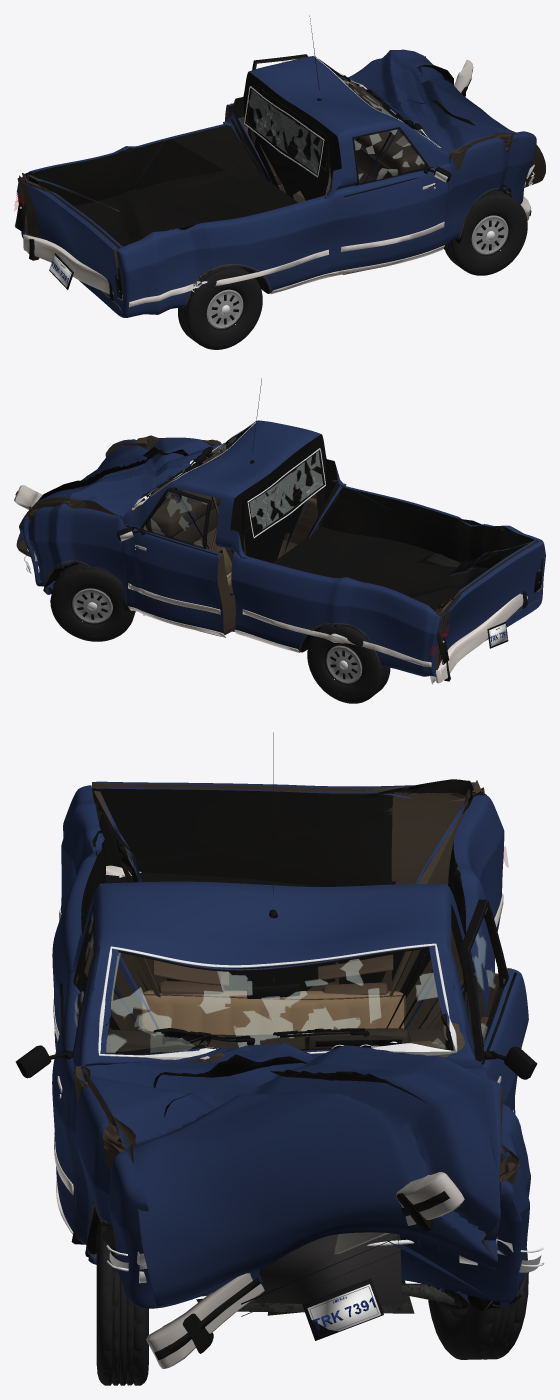
The model's file is pickup87_front_d2_lod1.glb.
The picture shows the model from 3 angles, top to bottom: view 1: azimuth 30°, elevation 25°; view 2: azimuth 150°, elevation 25°; view 3: azimuth 270°, elevation 25°; orthographic projection. The views are drawn at different scales.
Parts seen in each view (by area): view 1: Body, Hood, Wheel_RR_mesh, Wheel_FR_mesh, Tailgate, Door_FR, Glass, Interior, Trim, Trim_FR, Bumper_R, Ends (+3 smaller); view 2: Body, Door_FL, Hood, Wheel_FL_mesh, Wheel_RL_mesh, Tailgate, Glass, Interior, Trim, Bumper_R, Trim_FL, Ends (+3 smaller); view 3: Body, Hood, Interior, Glass, Bumper_F, Engine, Door_FL, Wheel_FR_mesh, Ends, Wheel_FL_mesh, Door_FR, Trim (+5 smaller).
Boxes of the visible parts, x1,y1,x2,y2 form: Body: (17, 56, 536, 317); Hood: (348, 49, 545, 187); Wheel_RR_mesh: (178, 266, 262, 349); Wheel_FR_mesh: (445, 190, 527, 275); Tailgate: (17, 178, 120, 307); Door_FR: (336, 127, 448, 270); Glass: (244, 57, 440, 177); Interior: (297, 85, 423, 197); Trim: (129, 15, 510, 307); Trim_FR: (337, 127, 451, 275); Bumper_R: (23, 234, 113, 300); Ends: (14, 164, 534, 300); Body: (22, 420, 545, 677); Door_FL: (121, 487, 235, 634); Hood: (16, 437, 220, 556); Wheel_FL_mesh: (50, 563, 135, 641); Wheel_RL_mesh: (307, 625, 390, 703); Tailgate: (438, 541, 543, 667); Glass: (132, 422, 325, 538); Interior: (144, 452, 231, 585); Trim: (43, 378, 471, 667); Bumper_R: (430, 591, 527, 684); Trim_FL: (117, 489, 225, 637); Ends: (24, 549, 543, 664); Body: (52, 779, 530, 1310); Hood: (80, 1043, 503, 1305); Interior: (106, 954, 446, 1051); Glass: (98, 943, 457, 1059); Bumper_F: (146, 1172, 464, 1368); Engine: (253, 1233, 402, 1306); Door_FL: (459, 899, 528, 1113); Wheel_FR_mesh: (96, 1220, 148, 1385); Ends: (106, 1234, 544, 1340); Wheel_FL_mesh: (428, 1248, 528, 1359); Door_FR: (52, 904, 95, 1232); Trim: (53, 732, 525, 1308).
Bounding box in the file's own units: 4.62 × 2.56 × 2.38.
Materials: 33 (5 with a texture image).
